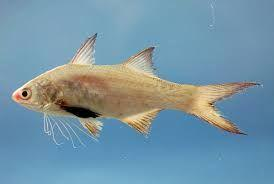Fourfinger Threadfish: (12, 32, 260, 145)
